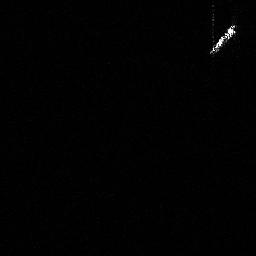ship: (206, 21, 239, 57)
